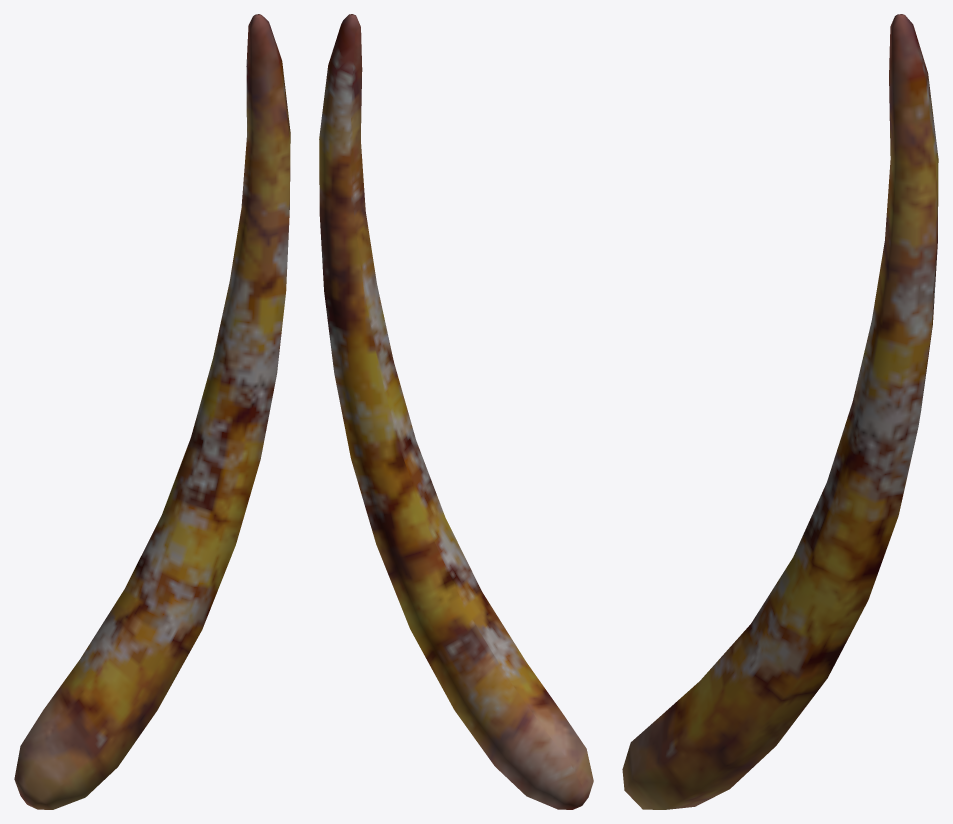
The model's file is Mutation2.fbx.
3 views of the same model, side by side, from view 1: azimuth 30°, elevation 25°; view 2: azimuth 150°, elevation 25°; view 3: azimuth 330°, elevation 25° (orthographic). The views are drawn at different scales.
Visible parts, largest first — view 1: P_Mutation02.mo; view 2: P_Mutation02.mo; view 3: P_Mutation02.mo.
Part boxes in pixels (bbox=[...]): P_Mutation02.mo: bbox=[14, 14, 290, 809]; P_Mutation02.mo: bbox=[319, 14, 593, 809]; P_Mutation02.mo: bbox=[622, 14, 938, 809].
Bounding box in the file's own units: 20.89 × 54.96 × 6.19.
